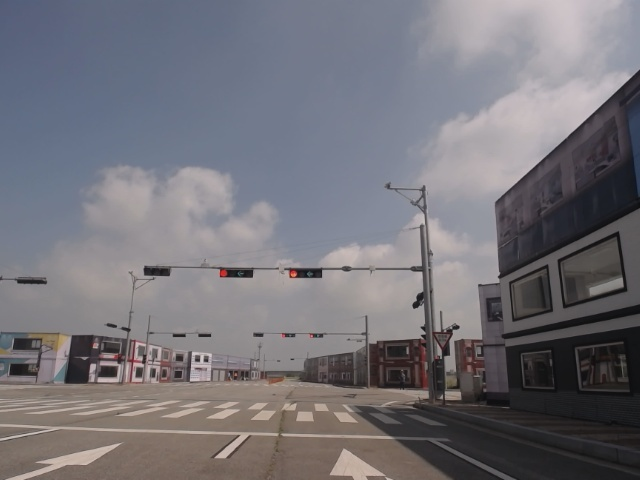left_green_4: (220, 268, 253, 278)
